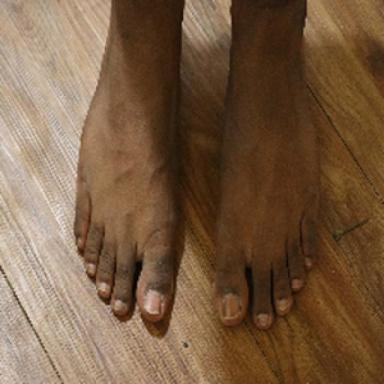normal skin: (75, 0, 185, 322), (215, 0, 318, 329)
